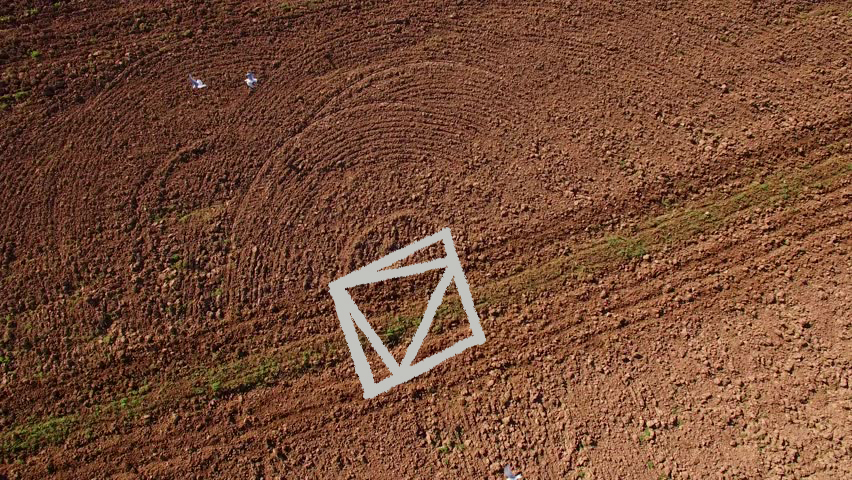marker: (323, 219, 489, 407)
